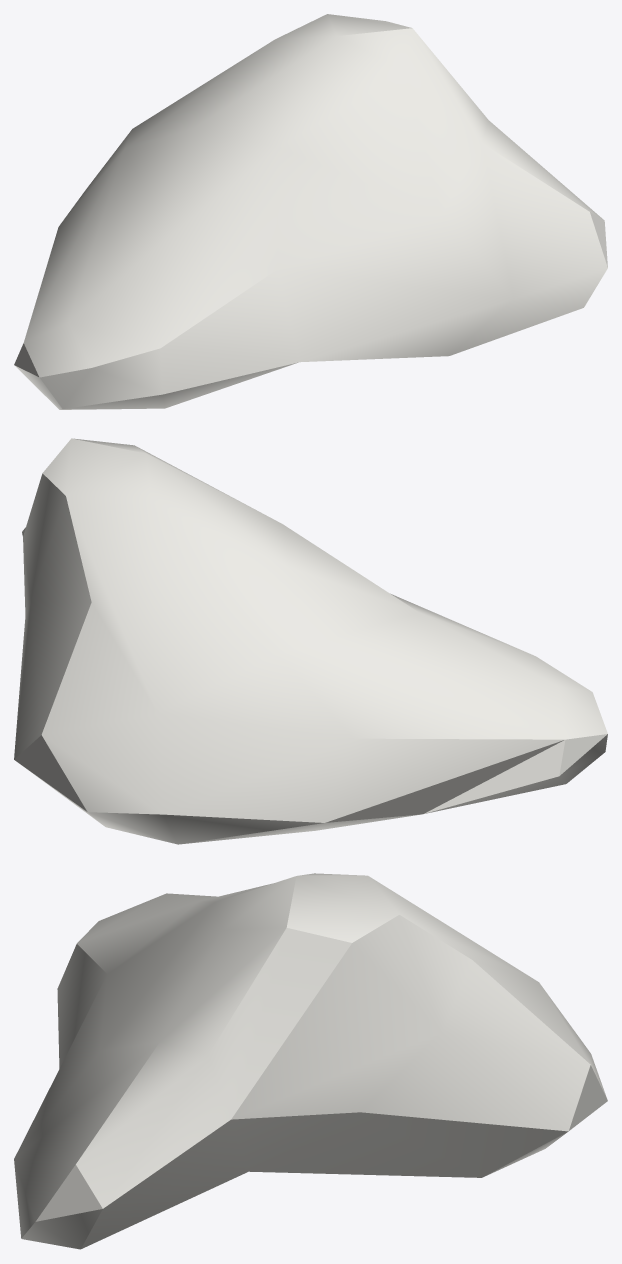
Rendered from rock_5.fbx.
3 views of the same model, one above another, from view 1: azimuth 30°, elevation 25°; view 2: azimuth 150°, elevation 25°; view 3: azimuth 270°, elevation 25° (orthographic). The views are drawn at different scales.
Visible parts, largest first — view 1: rock.069; view 2: rock.069; view 3: rock.069.
Boxes of the visible parts, x1,y1,x2,y2 form: rock.069: (14, 14, 607, 409); rock.069: (14, 438, 607, 844); rock.069: (14, 873, 607, 1249).
Size of the model in its own units: 384 by 175 by 289.
